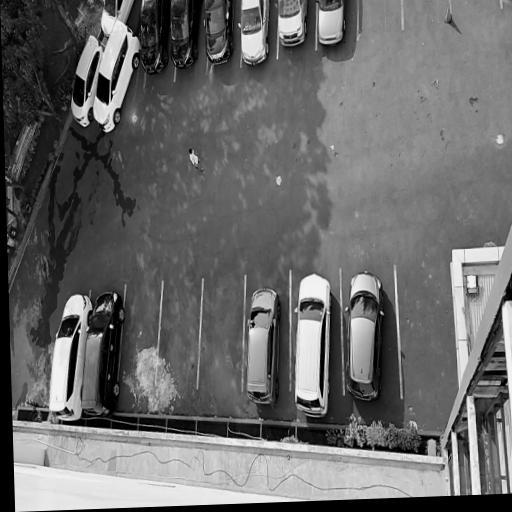Car: (47, 288, 93, 426), (79, 286, 125, 421), (292, 266, 332, 417), (91, 18, 142, 135), (342, 264, 385, 402), (243, 284, 283, 409), (68, 30, 106, 130), (139, 0, 171, 79), (203, 0, 237, 70), (237, 0, 272, 68), (170, 0, 202, 73), (275, 0, 313, 53), (315, 0, 350, 48), (98, 0, 135, 39)
Space Available: (395, 259, 452, 396), (197, 276, 245, 390), (156, 279, 203, 388), (119, 280, 163, 382), (359, 0, 402, 37), (403, 0, 451, 27), (450, 0, 501, 16)
